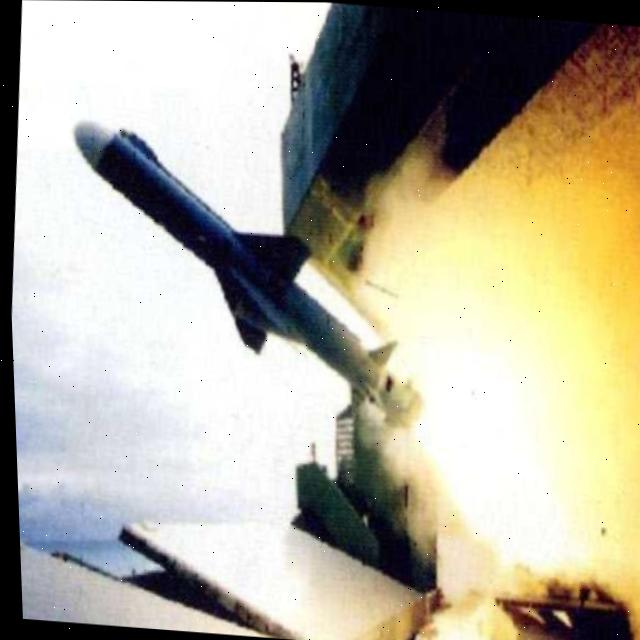missile: (52, 109, 415, 412)
